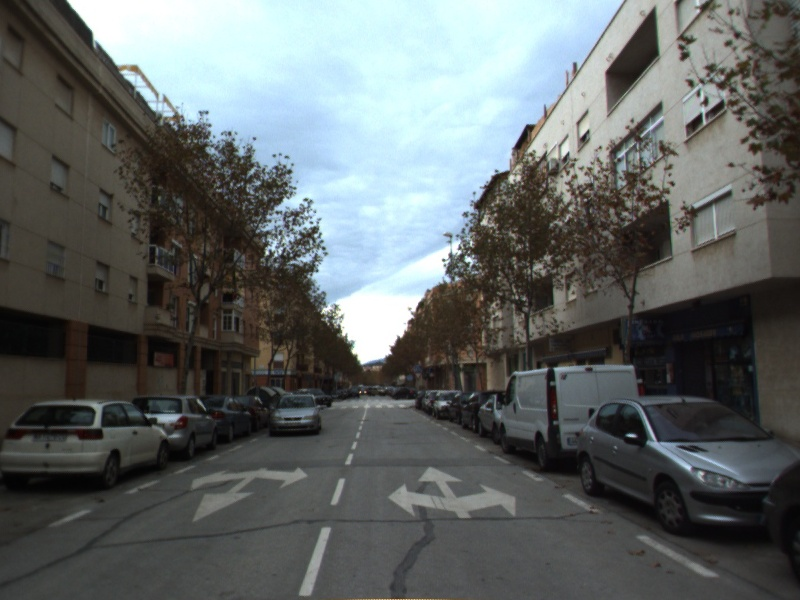STRAIGHT_LEFT_RIGHT: (386, 463, 518, 520)
